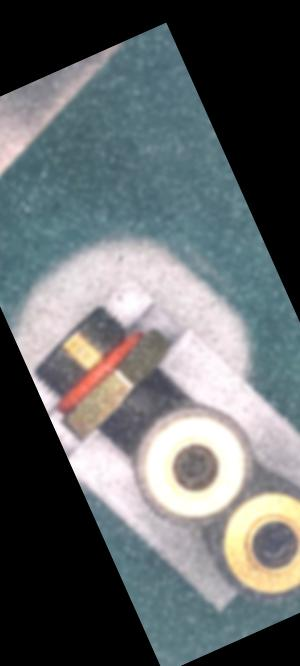craze: (124, 394, 146, 425)
